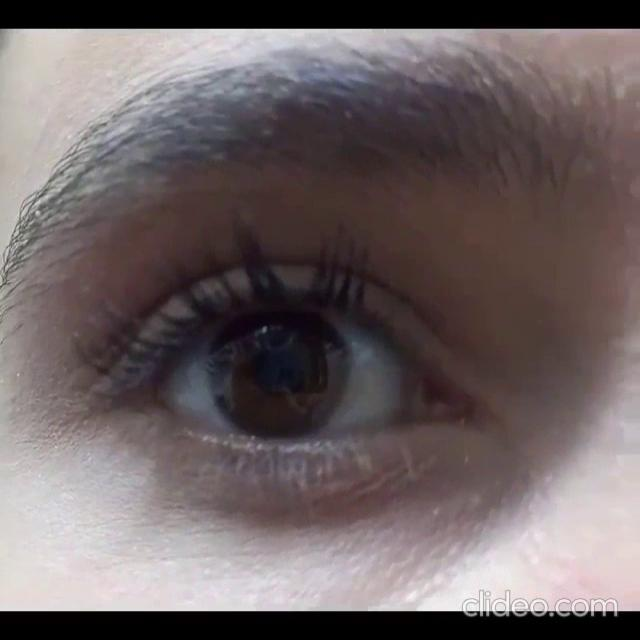iris: (208, 312, 348, 436)
pupille: (252, 354, 309, 397)
